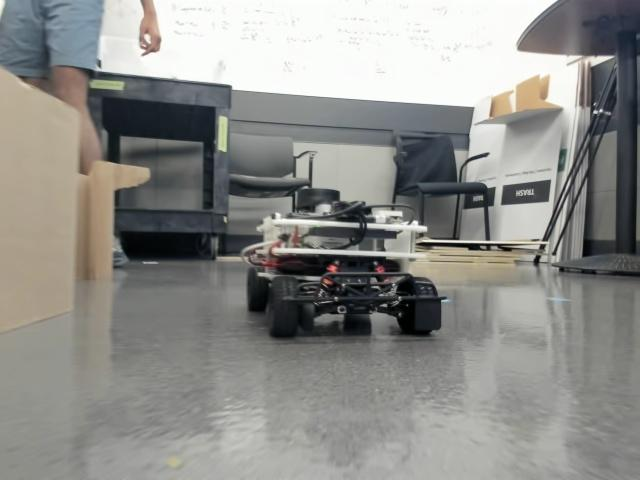Car: (243, 188, 447, 336)
